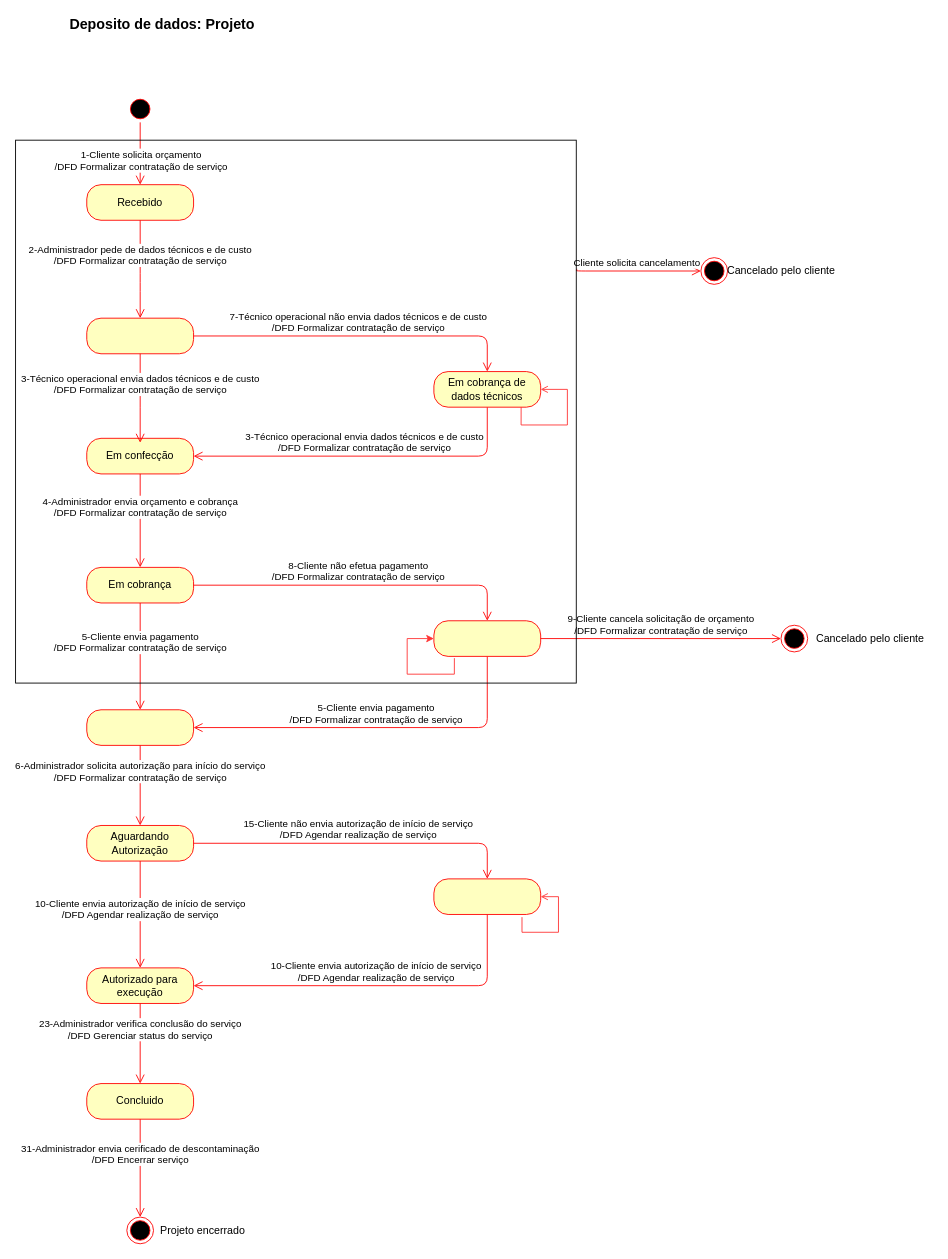
Some shapes in this 948 by 1259 pixel diagram are drawn without their labels. Here are the shapes that lost their labels. From the top down, the centre of each, then its label:
At (x=140, y=335): "Aguardando dados técnicos".
At (x=487, y=638): "Pagamento em atraso".
At (x=140, y=727): "Pago".
At (x=487, y=896): "Autorização em atraso".
